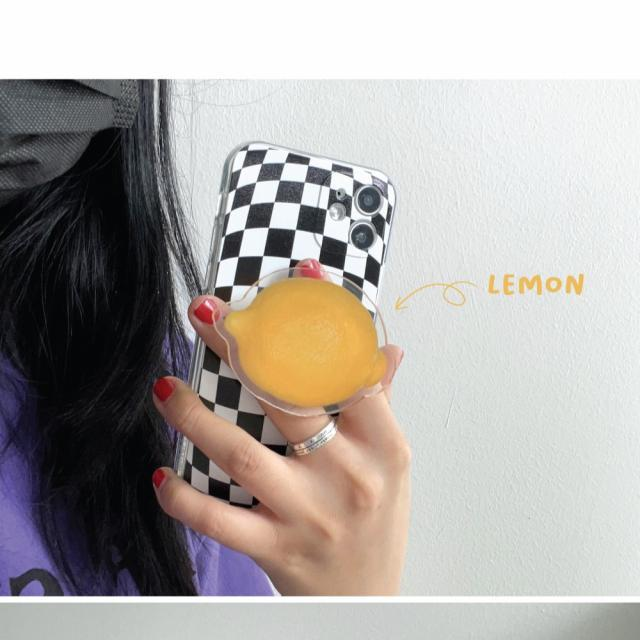phone: (172, 140, 396, 525)
